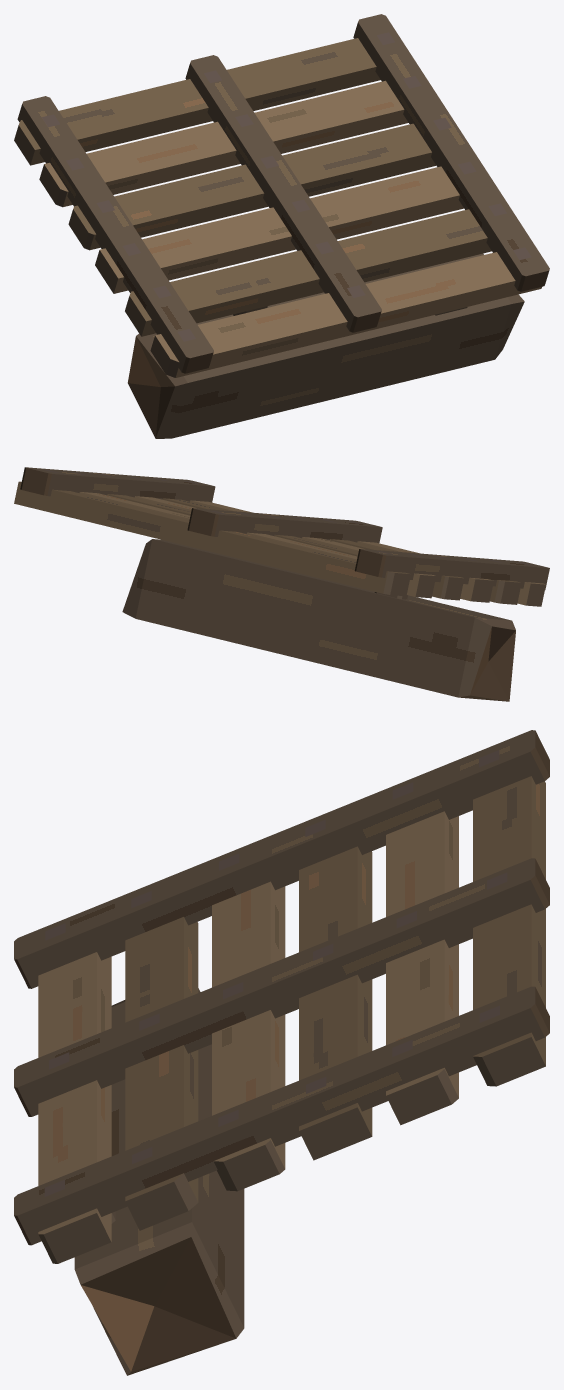
File: 沉船-舱盖格栅.glb
The picture shows the model from 3 angles, top to bottom: view 1: azimuth 30°, elevation 25°; view 2: azimuth 150°, elevation 25°; view 3: azimuth 270°, elevation 25°; orthographic projection. The views are drawn at different scales.
Visible parts, largest first — view 1: matte_hatch_and_mast_fragment, metal_hatch_nails; view 2: matte_hatch_and_mast_fragment, metal_hatch_nails; view 3: matte_hatch_and_mast_fragment, metal_hatch_nails.
Boxes of the visible parts, box(x1,y1,x2,y2) form: matte_hatch_and_mast_fragment: box(14, 14, 549, 438); metal_hatch_nails: box(42, 32, 531, 341); matte_hatch_and_mast_fragment: box(14, 467, 549, 701); metal_hatch_nails: box(43, 469, 533, 565); matte_hatch_and_mast_fragment: box(14, 730, 549, 1375); metal_hatch_nails: box(44, 750, 507, 1196).
Size of the model in its own units: 1.9 by 1.19 by 1.5.
1 material, 1 textured.
